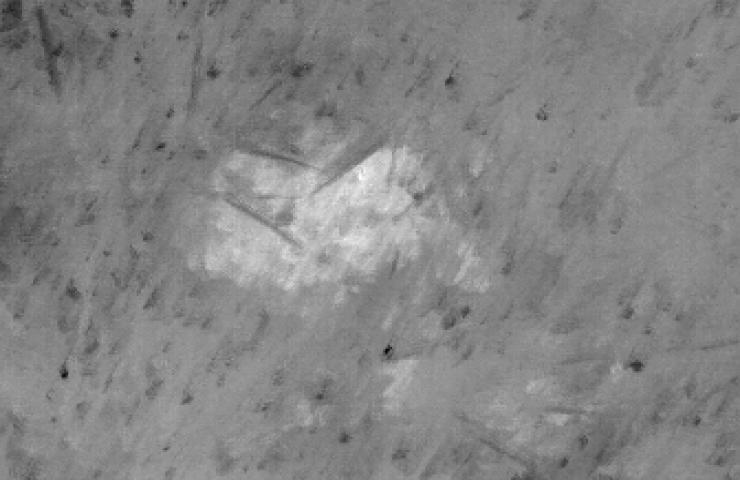landmines: (203, 145, 433, 295)
